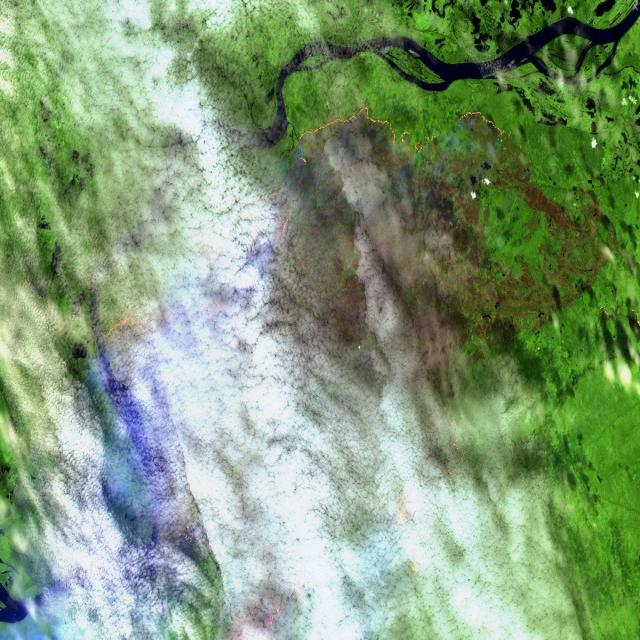fire: (288, 79, 546, 175), (217, 175, 301, 249)
